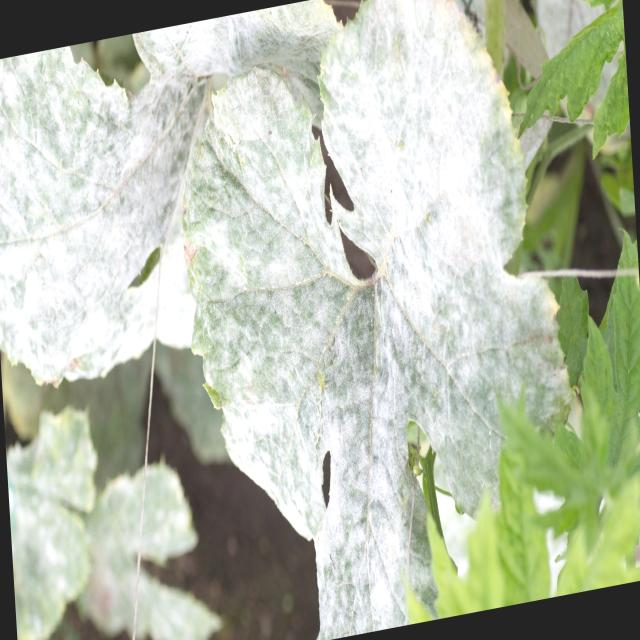Powdery Mildew: (181, 1, 574, 636)
